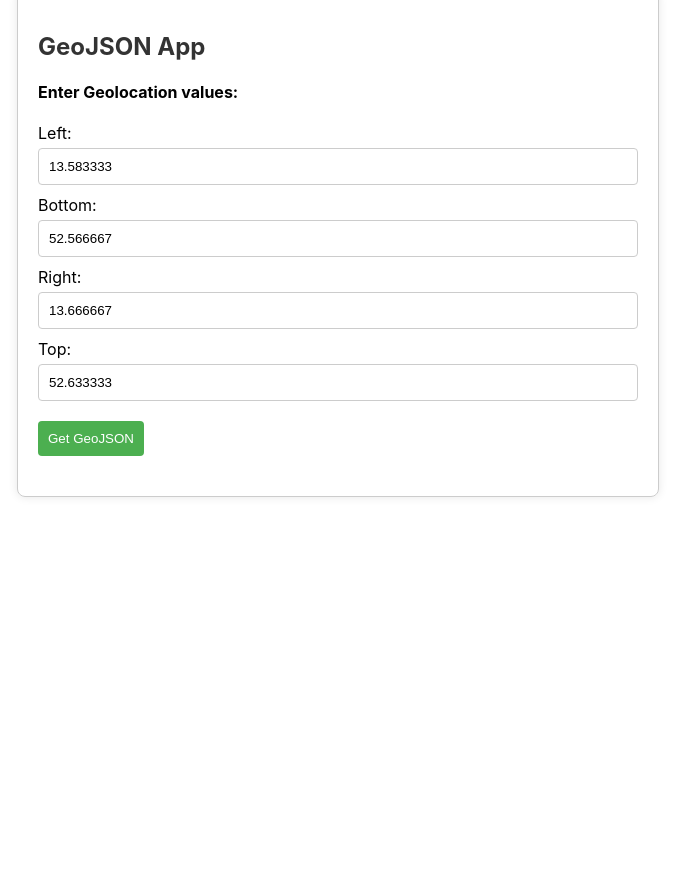
GeoJSONFeatures component › handles fetching GeoJSON data
Replace the text in the field labelled "Left:" with "13.5": coordinates (338, 167) [38,148,638,185]
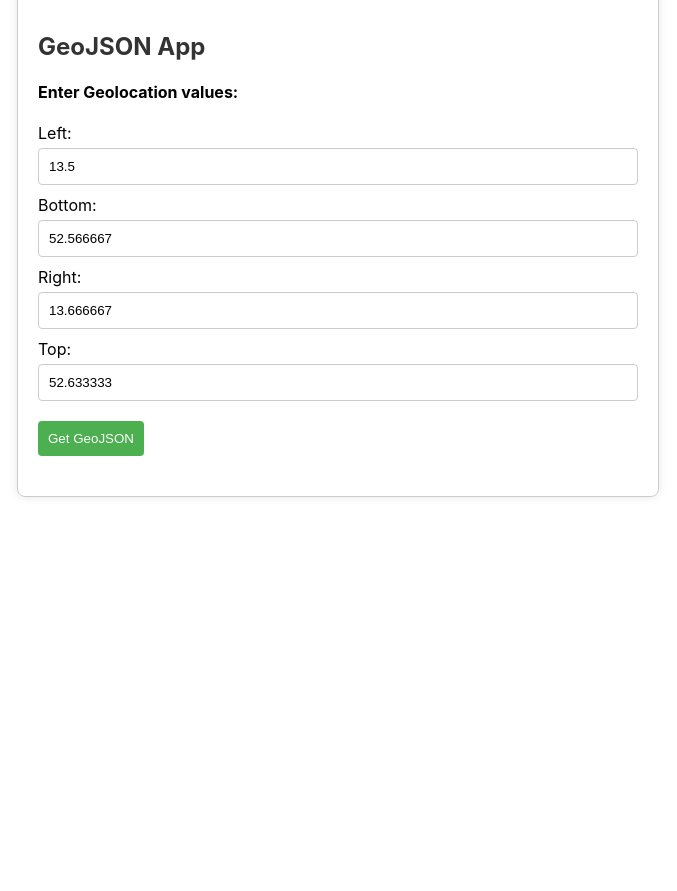
Replace the text in the field labelled "Bottom:" with "52.5": coordinates (338, 239) [38,220,638,257]
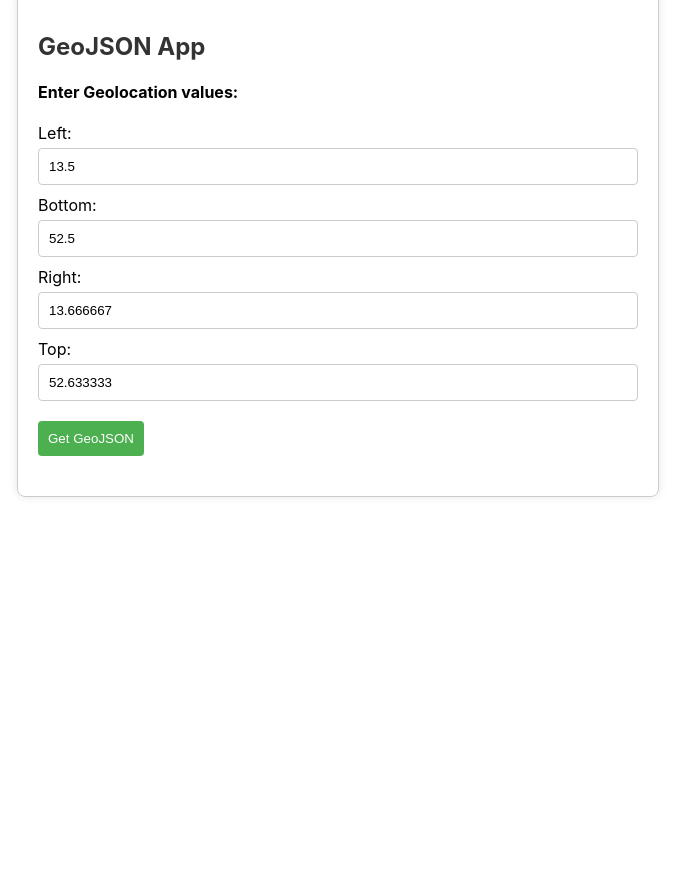
Replace the text in the field labelled "Right:" with "13.7": coordinates (338, 311) [38,292,638,329]
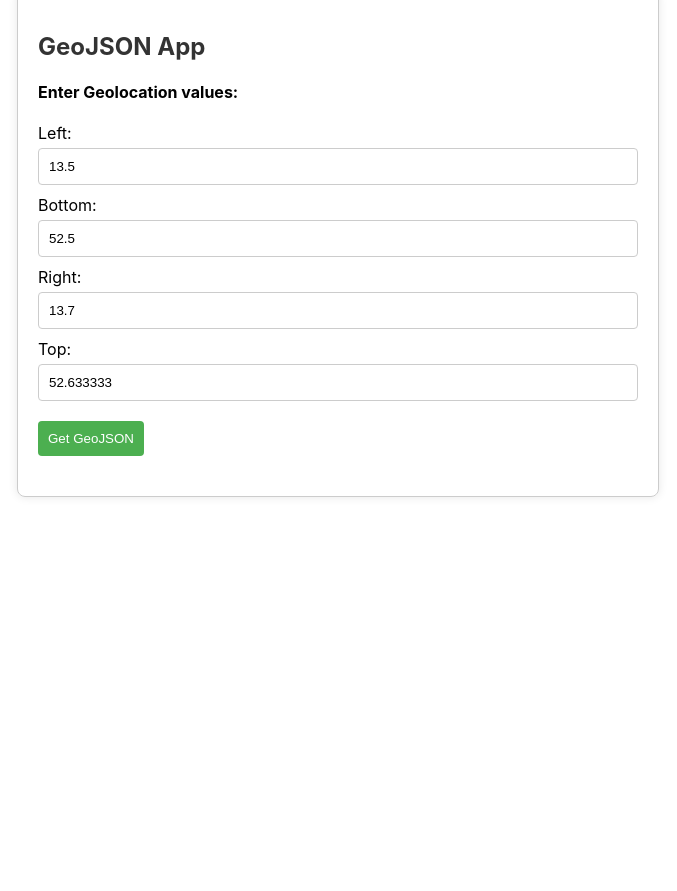
Replace the text in the field labelled "Top:" with "52.7": coordinates (338, 383) [38,364,638,401]
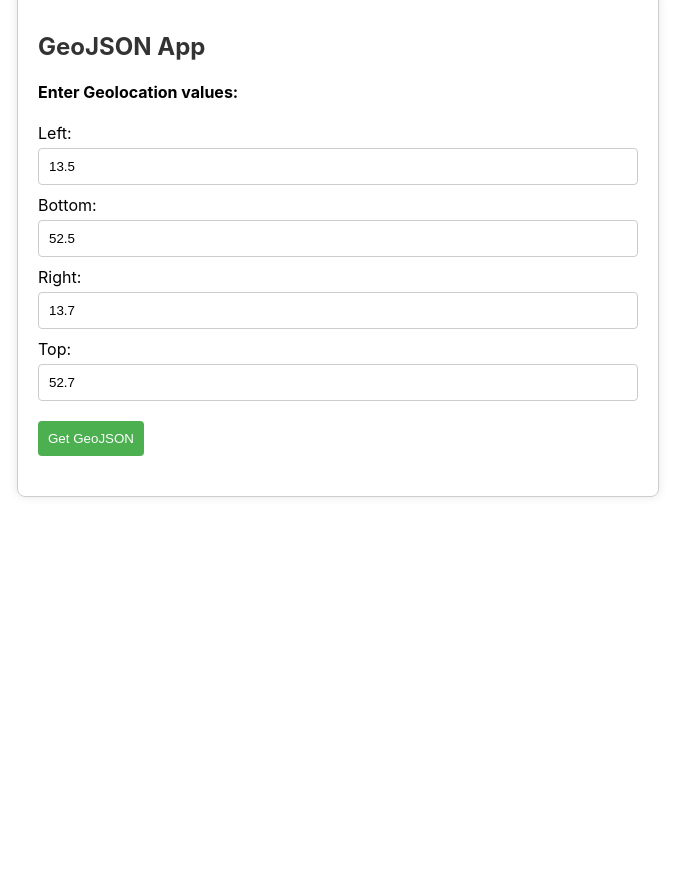
Trigger the button click
Click the button "Get GeoJSON": coordinates (91, 439) [38,421,144,456]
(page scrolled)
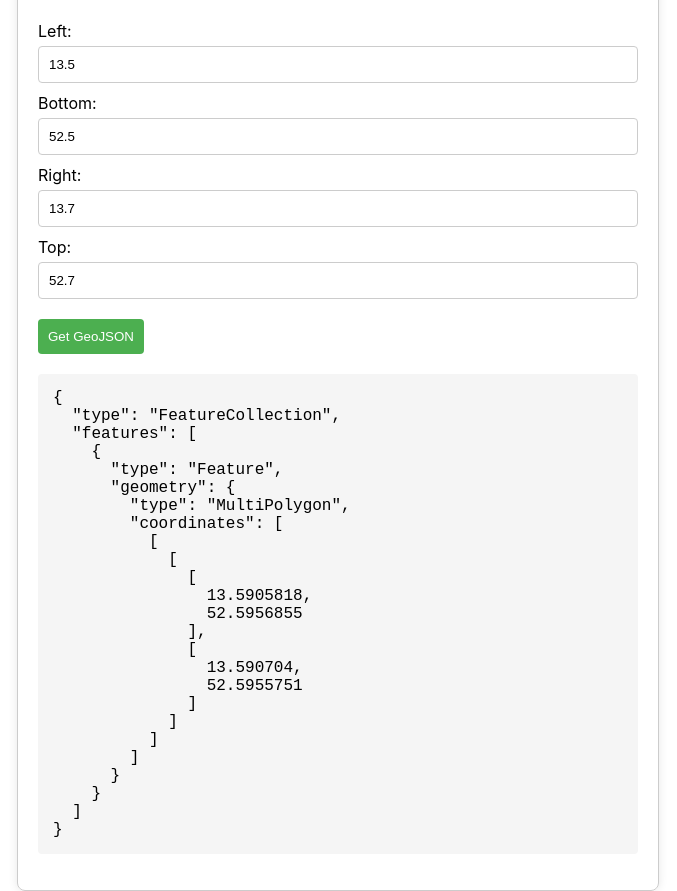
Expected: the button named "fetching" is shown, [38,319,144,354]
Result: the text "FeatureCollection" is shown at [53,389,351,839]
